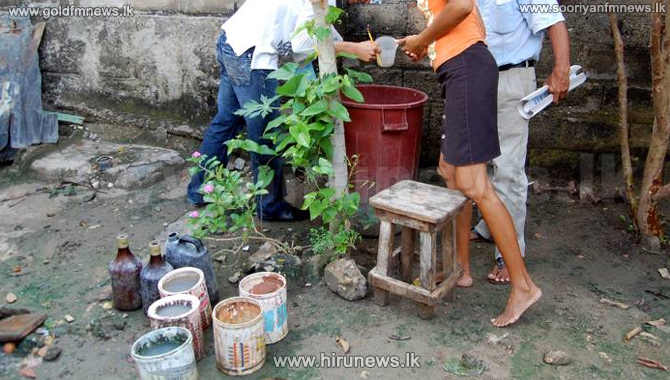container: (327, 75, 434, 234), (210, 296, 270, 376), (147, 294, 207, 363), (238, 269, 289, 344), (129, 327, 201, 380), (154, 265, 209, 327)
person: (398, 1, 543, 334), (173, 1, 380, 221), (465, 1, 585, 291)
tree: (274, 1, 358, 236)
